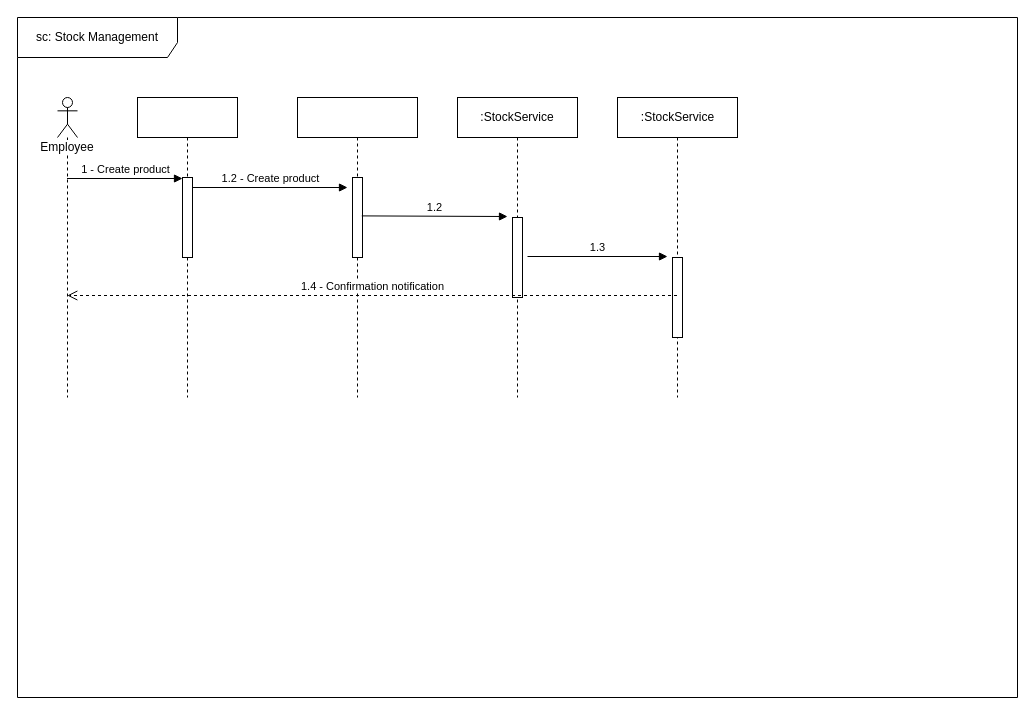
The diagram is 1035 pixels wide and 715 high, and some of its shapes have lost their labels. Here are the shapes that lost their labels. From the top down, the centre of each, then its label:
At (x=187, y=247): "UI".
At (x=357, y=247): ":StockController".
